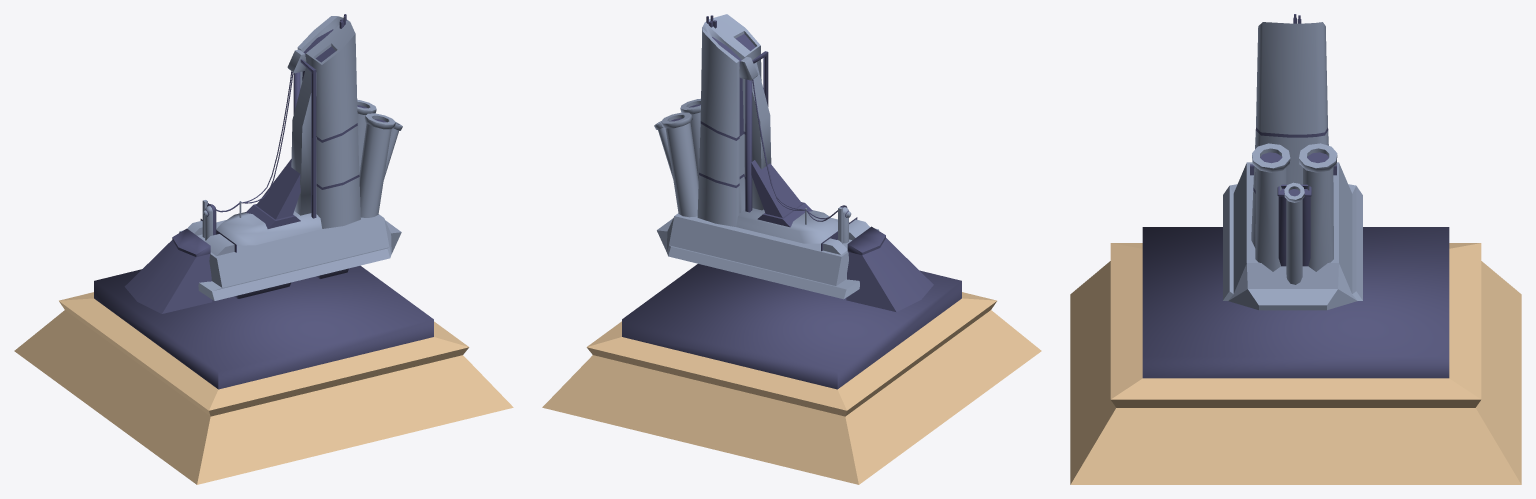
Rendered from Mesh_Vehicle_Figurine.fbx.
The picture shows the model from 3 angles, left to right: view 1: azimuth 30°, elevation 25°; view 2: azimuth 150°, elevation 25°; view 3: azimuth 270°, elevation 25°; orthographic projection. The views are drawn at different scales.
Visible parts, largest first — view 1: Socle.001, Vehicle; view 2: Socle.001, Vehicle; view 3: Socle.001, Vehicle.
Part boxes in pixels (x1,y1,x2,y2): Socle.001: (14,265,513,484); Vehicle: (124,14,402,313); Socle.001: (542,264,1041,484); Vehicle: (654,14,933,311); Socle.001: (1070,227,1521,484); Vehicle: (1223,14,1362,310).
Bounding box in the file's own units: 0.3679 × 0.3811 × 0.3679.
